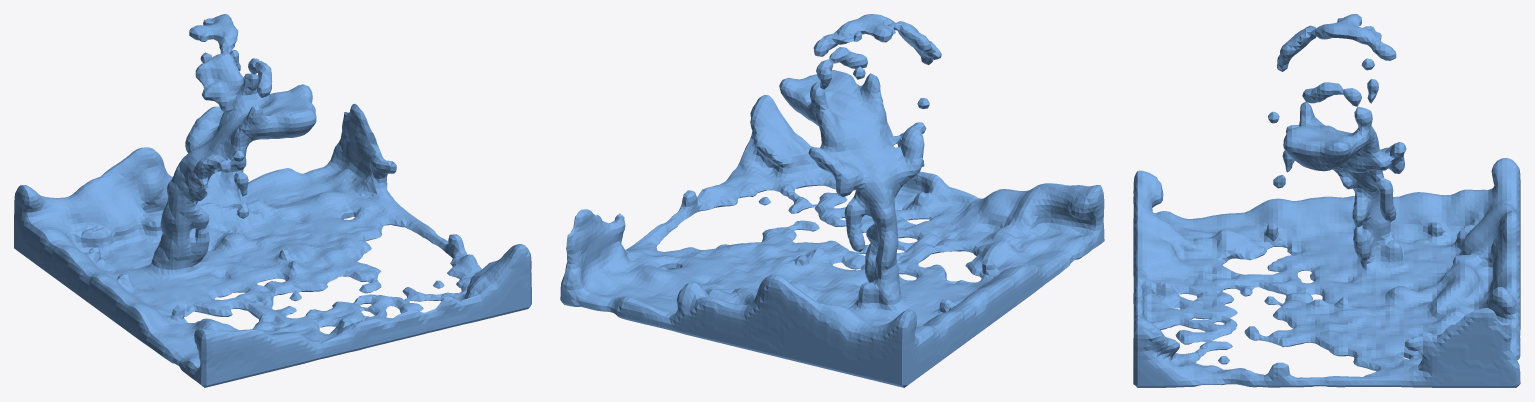
File: water_0078.glb
The picture shows the model from 3 angles, left to right: view 1: azimuth 30°, elevation 25°; view 2: azimuth 150°, elevation 25°; view 3: azimuth 270°, elevation 25°; orthographic projection. The views are drawn at different scales.
Parts seen in each view (by area): view 1: Water_0078; view 2: Water_0078; view 3: Water_0078.
Boxes of the visible parts, x1,y1,x2,y2 form: Water_0078: (14,14,531,387); Water_0078: (560,14,1104,387); Water_0078: (1133,14,1520,387).
Size of the model in its own units: 4.83 by 3.63 by 4.83.
